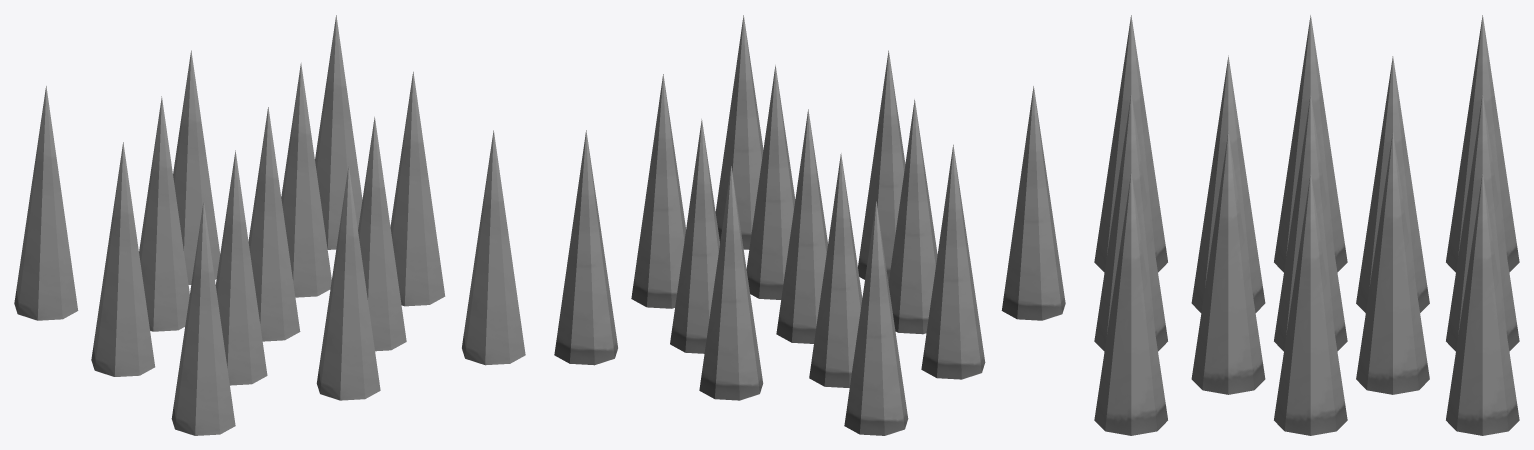
Rendered from Spike.fbx.
The picture shows the model from 3 angles, left to right: view 1: azimuth 30°, elevation 25°; view 2: azimuth 150°, elevation 25°; view 3: azimuth 270°, elevation 25°; orthographic projection. The views are drawn at different scales.
Parts seen in each view (by area): view 1: polySurface14; view 2: polySurface14; view 3: polySurface14.
Part boxes in pixels (x1=…): polySurface14: x1=14, y1=15, x2=525, y2=435; polySurface14: x1=554, y1=15, x2=1065, y2=435; polySurface14: x1=1094, y1=15, x2=1519, y2=435.
Bounding box in the file's own units: 59.88 × 36.66 × 56.88.
